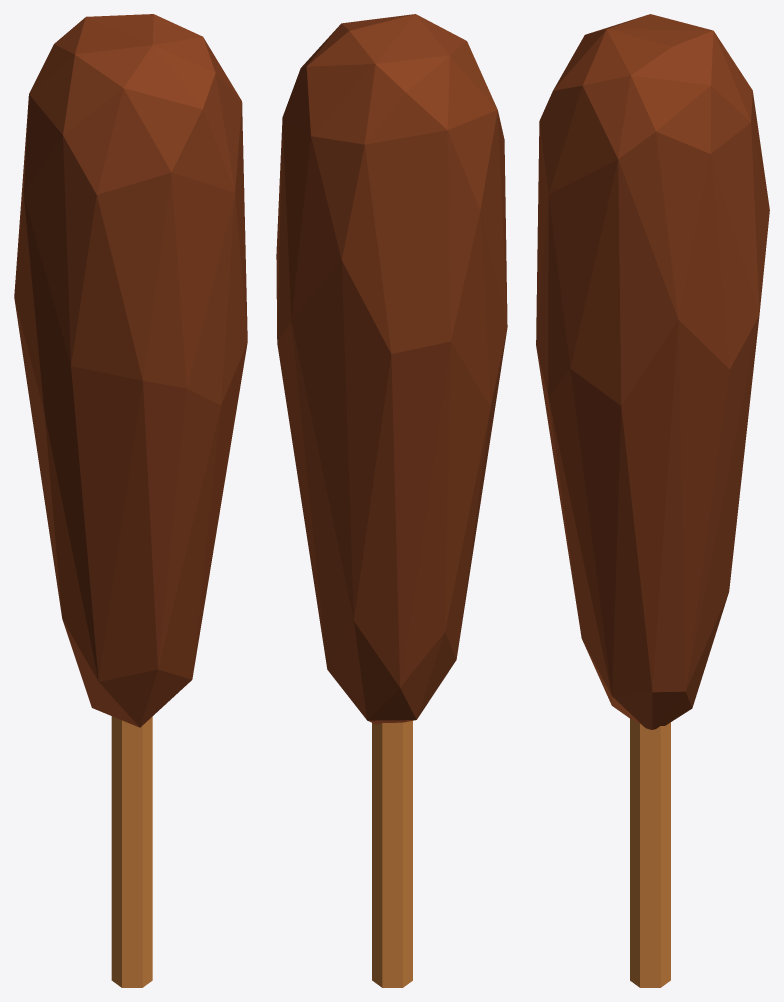
Rendered from Corndog.glb.
The picture shows the model from 3 angles, left to right: view 1: azimuth 30°, elevation 25°; view 2: azimuth 150°, elevation 25°; view 3: azimuth 270°, elevation 25°; orthographic projection.
Visible parts, largest first — view 1: Corndog; view 2: Corndog; view 3: Corndog.
Boxes of the visible parts, box(x1,y1,x2,y2) form: Corndog: box(14, 14, 247, 987); Corndog: box(276, 14, 507, 987); Corndog: box(536, 14, 769, 987).
Size of the model in its own units: 0.0396 by 0.1798 by 0.0401.
1 material, 1 textured.
